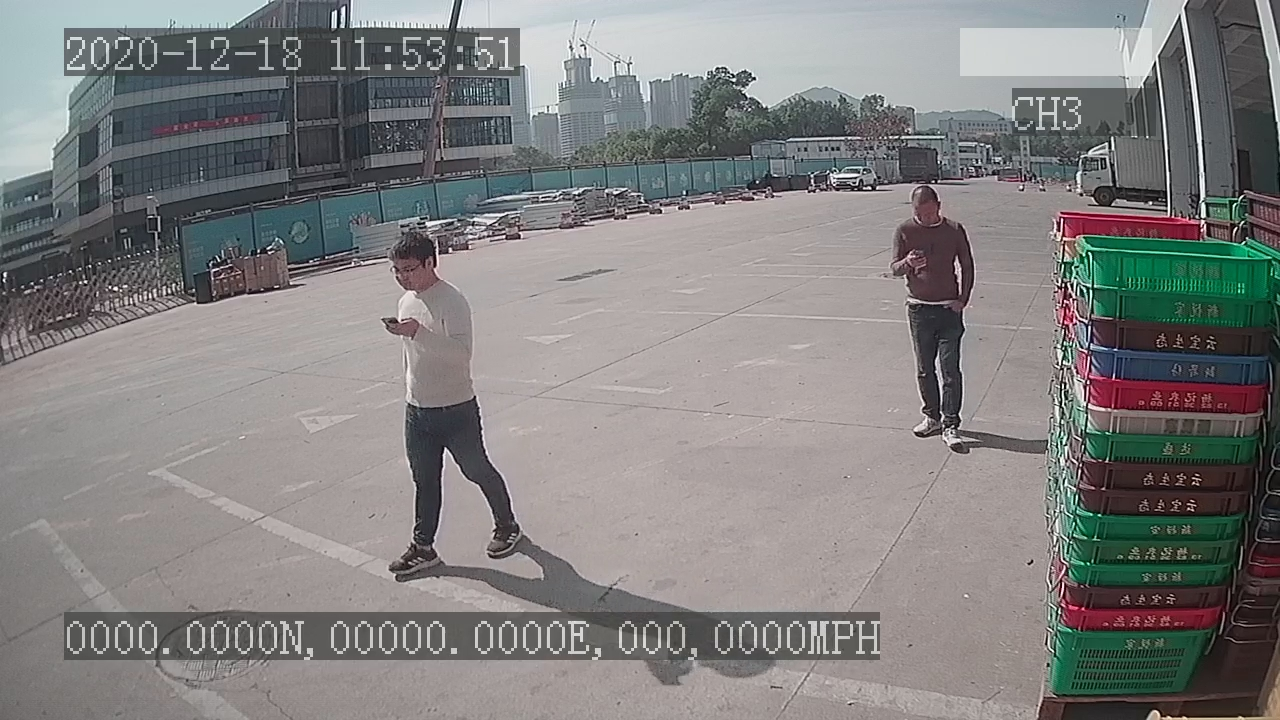person: (376, 233, 526, 585), (872, 183, 986, 454)
